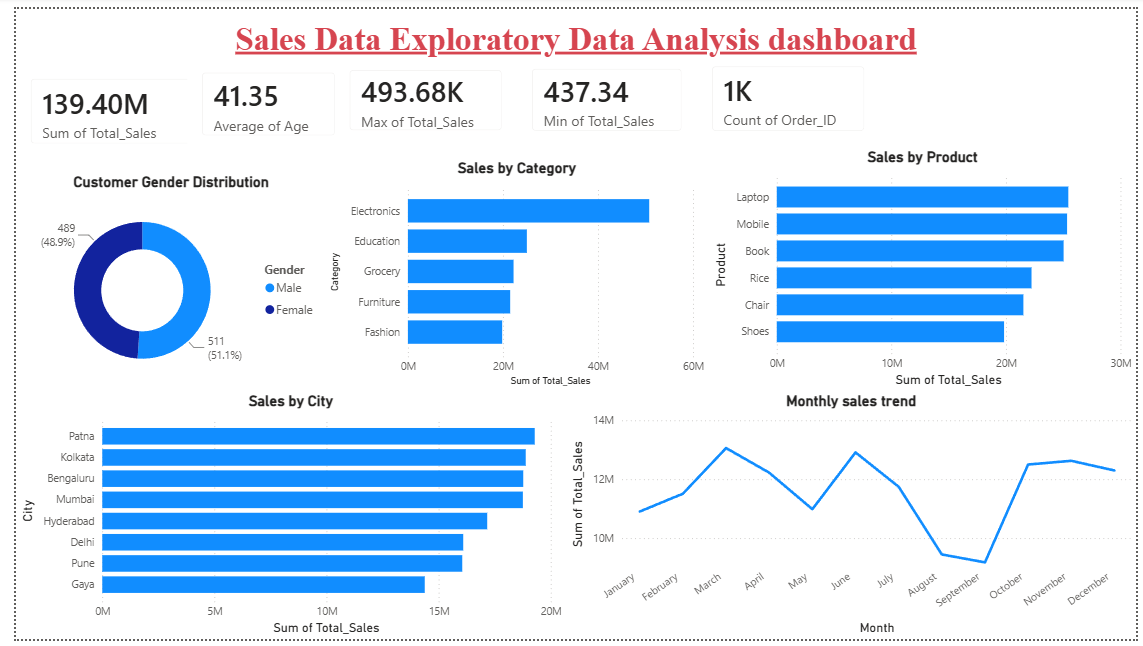

Layout of this report page (visuals, bound fields, positions):
{"tool":"powerbi","page":{"name":"Page 1","canvas":[1280,720],"ordinal":0},"visuals":[{"type":"clusteredBarChart","title":"Sales by Category","fields":{"Category":["Sales_Dataset.Category"],"Y":["Sum(Sales_Dataset.Total_Sales)"]},"box":[355,171.7,436.7,265],"z":0},{"type":"donutChart","title":"Customer Gender Distribution","fields":{"Category":["Sales_Dataset.Gender"],"Y":["CountNonNull(Sales_Dataset.Customer_ID)"]},"box":[0,186.7,355,250],"z":1000},{"type":"barChart","title":"Sales by Product","fields":{"Category":["Sales_Dataset.Product"],"Y":["Sum(Sales_Dataset.Total_Sales)"]},"box":[793.3,158.3,486.7,278.3],"z":2000},{"type":"barChart","title":"Sales by City","fields":{"Category":["Sales_Dataset.City"],"Y":["Sum(Sales_Dataset.Total_Sales)"]},"box":[0,436.7,628.3,283.3],"z":3000},{"type":"lineChart","title":"Monthly sales trend","fields":{"Y":["Sum(Sales_Dataset.Total_Sales)"],"Category":["Sales_Dataset.Order_Date.Variation.Date Hierarchy.Month"]},"box":[628.3,436.7,651.7,283.3],"z":4000},{"type":"cardVisual","fields":{"Data":["Sum(Sales_Dataset.Total_Sales)"]},"box":[0,63.3,218.3,108.3],"z":5000},{"type":"cardVisual","fields":{"Data":["Avg(Sales_Dataset.Age)"]},"box":[195,55,186.7,106.7],"z":6000},{"type":"cardVisual","fields":{"Data":["Max(Sales_Dataset.Total_Sales)"]},"box":[365,53.3,208.3,103.3],"z":7000},{"type":"cardVisual","fields":{"Data":["Min(Sales_Dataset.Total_Sales)"]},"box":[573.3,51.7,205,105],"z":8000},{"type":"cardVisual","fields":{"Data":["CountNonNull(Sales_Dataset.Order_ID)"]},"box":[778.3,48.3,208.3,108.3],"z":9000},{"type":"textbox","box":[0,7.1,1280,55.7],"z":10000}]}

Visuals, with their boxes in screenshot pixels (x1, y1, x2, y2), scaled from the page's 1280x720 canvas onto the 1143x646 screenshot:
"Sales by Category" clusteredBarChart: select_region(317, 154, 707, 392)
"Customer Gender Distribution" donutChart: select_region(0, 168, 317, 392)
"Sales by Product" barChart: select_region(708, 142, 1142, 392)
"Sales by City" barChart: select_region(0, 392, 561, 645)
"Monthly sales trend" lineChart: select_region(561, 392, 1142, 645)
cardVisual - Sum(Sales_Dataset.Total_Sales): select_region(0, 57, 195, 154)
cardVisual - Avg(Sales_Dataset.Age): select_region(174, 49, 341, 145)
cardVisual - Max(Sales_Dataset.Total_Sales): select_region(326, 48, 512, 141)
cardVisual - Min(Sales_Dataset.Total_Sales): select_region(512, 46, 695, 141)
cardVisual - CountNonNull(Sales_Dataset.Order_ID): select_region(695, 43, 881, 141)
textbox: select_region(0, 6, 1142, 56)
